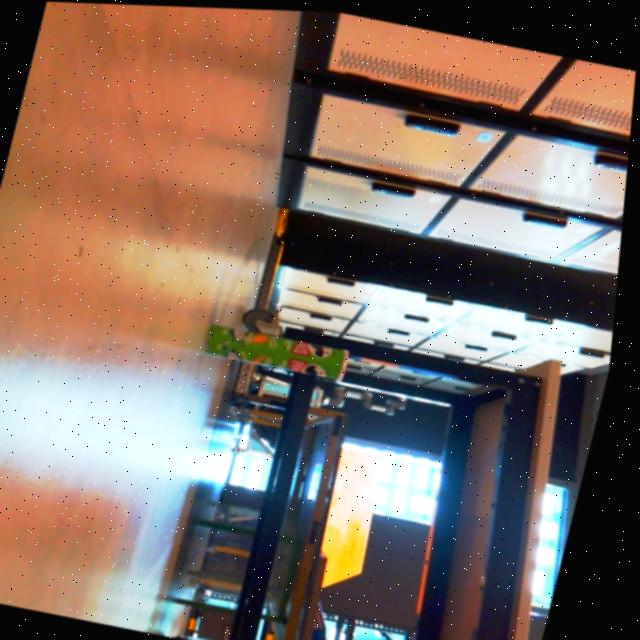greenpringles: (201, 312, 371, 384)
